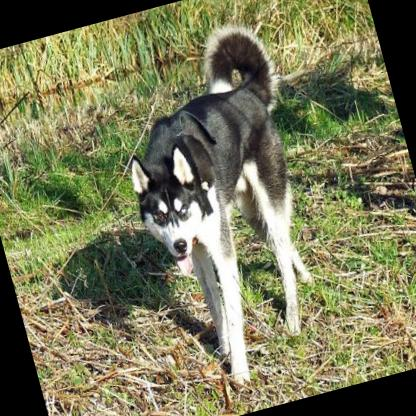Eskimo_dog: (98, 16, 348, 394)
